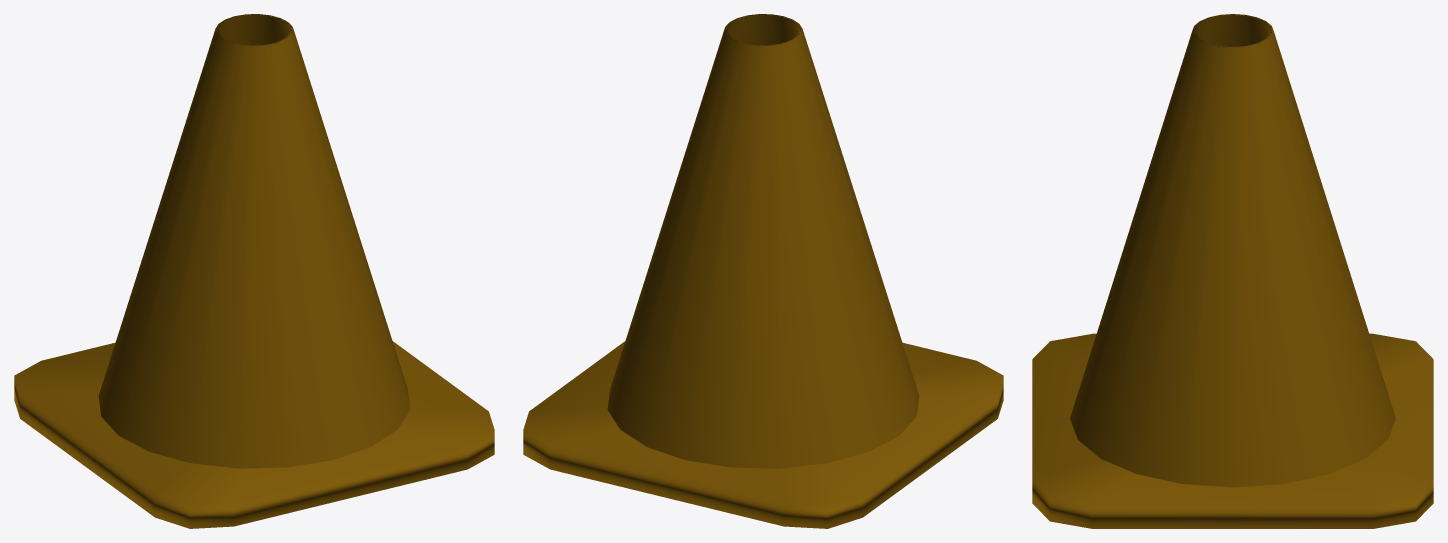
The model's file is RoadConus.fbx.
3 renders of one model, left to right at view 1: azimuth 30°, elevation 25°; view 2: azimuth 150°, elevation 25°; view 3: azimuth 270°, elevation 25°, orthographic. The views are drawn at different scales.
Visible parts, largest first — view 1: Conus; view 2: Conus; view 3: Conus.
Boxes of the visible parts, box(x1,y1,x2,y2) form: Conus: box(14, 14, 494, 528); Conus: box(523, 14, 1003, 528); Conus: box(1032, 14, 1433, 528).
Size of the model in its own units: 0.0183 by 0.0208 by 0.0183.
